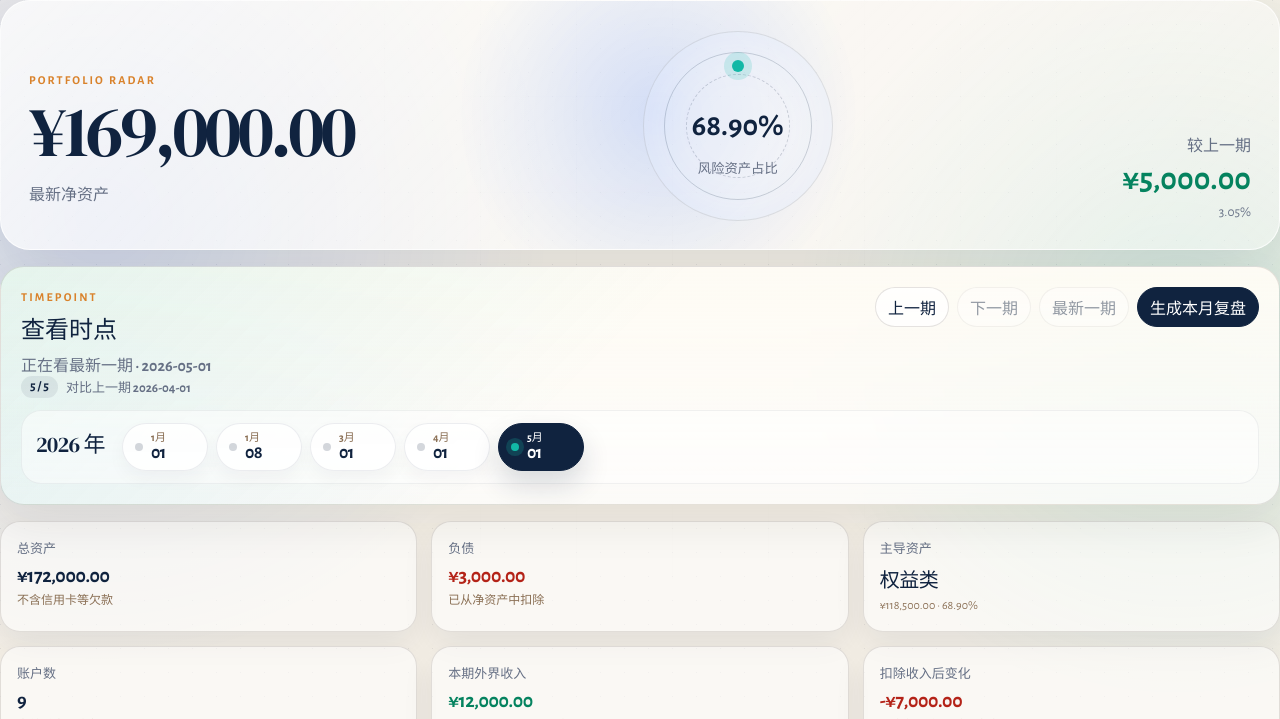
Scenario: Dashboard › navigates between snapshots without leaving the latest-follow mode until a period is chosen
The width and height of the screenshot is (1280, 719).
Expected: the text "最新净资产" is shown, [29, 187, 109, 203]
Expected: the text "正在看最新一期 · 2026-05-01" is shown, [21, 352, 212, 376]
Click the button "上一期". click: (912, 307)
box: [875, 287, 949, 327]
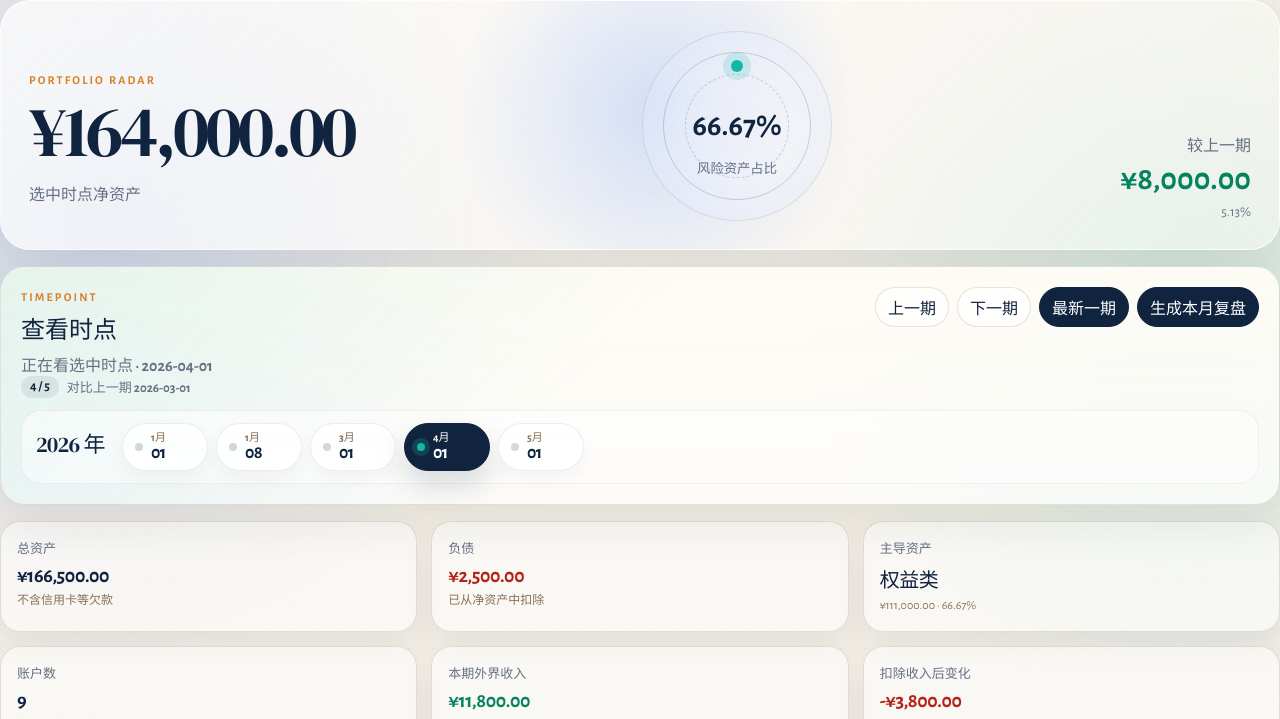
Result: the text "选中时点净资产" is shown at [29, 187, 141, 203]
Result: the text "正在看选中时点 · 2026-04-01" is shown at [21, 352, 213, 376]
Result: the button "最新一期" is enabled
Click the button "最新一期". click: (1084, 307)
box: [1039, 287, 1129, 327]
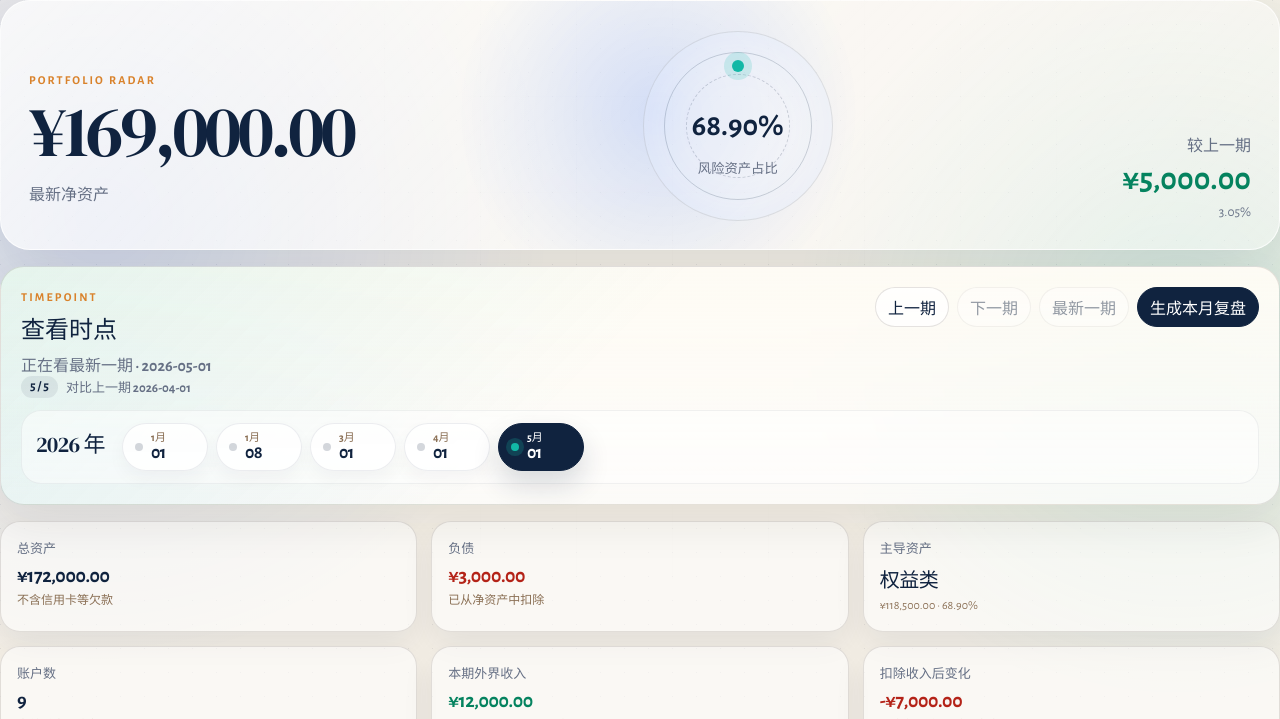
Result: the text "正在看最新一期 · 2026-05-01" is shown at [21, 352, 212, 376]
